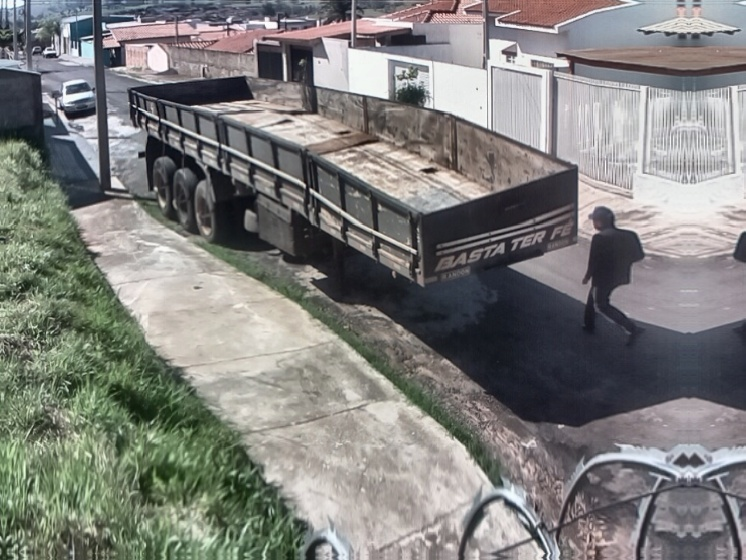person: (582, 205, 647, 346)
